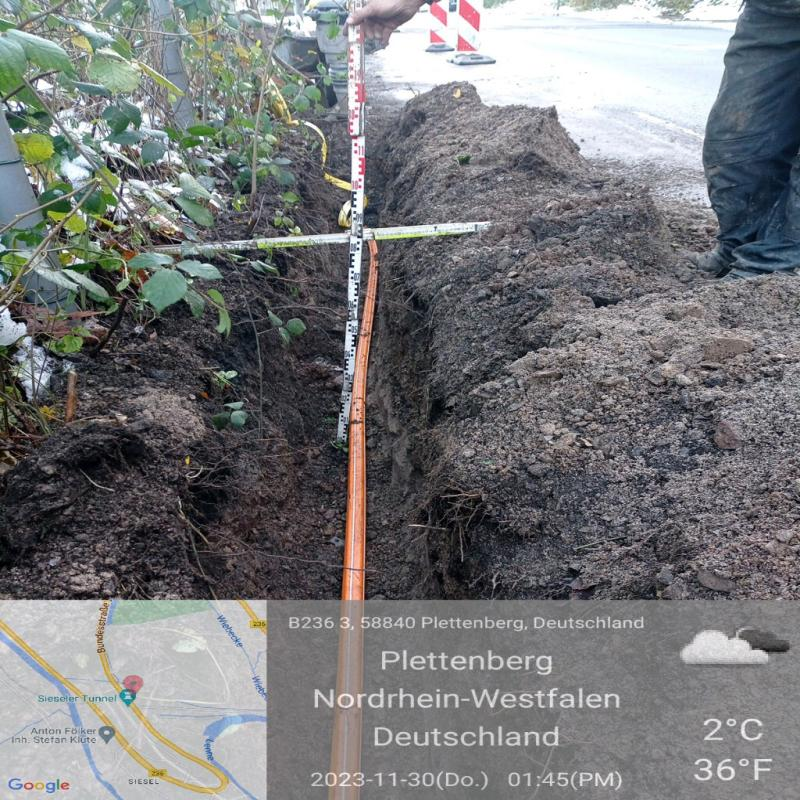Orang-Speednetrohrchen: (342, 266, 378, 600)
